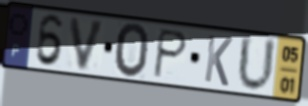6: (34, 12, 66, 69)
K: (202, 32, 234, 89)
O: (113, 21, 151, 80)
P: (151, 27, 190, 80)
U: (235, 33, 278, 95)
V: (68, 16, 108, 74)
